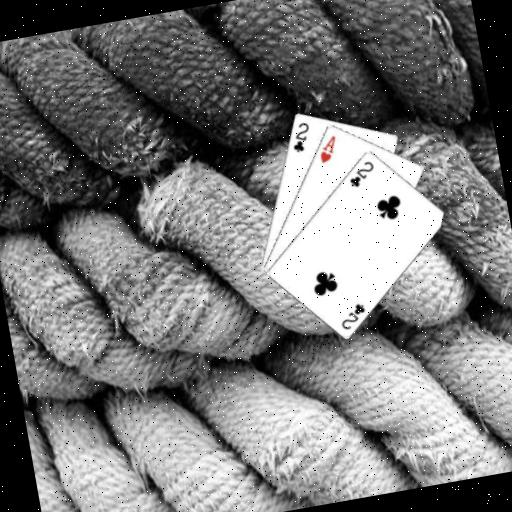2C: (335, 298, 370, 331), (343, 157, 378, 189), (285, 118, 314, 155)
AH: (313, 131, 341, 165)
